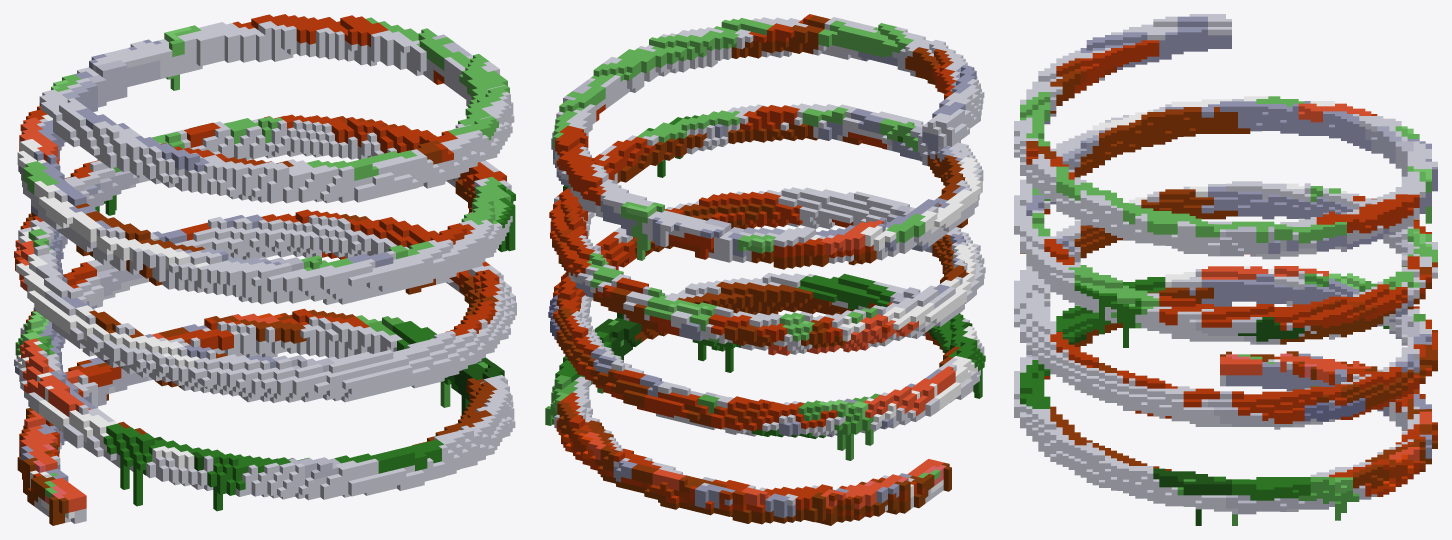
The model's file is spring_spring.FBX.
3 renders of one model, left to right at view 1: azimuth 30°, elevation 25°; view 2: azimuth 150°, elevation 25°; view 3: azimuth 270°, elevation 25°, orthographic. The views are drawn at different scales.
Parts seen in each view (by area): view 1: default028; view 2: default028; view 3: default028.
Part boxes in pixels (x1,y1,x2,y2): default028: (14,14,516,525); default028: (545,14,985,525); default028: (1014,14,1437,525).
Bounding box in the file's own units: 1224 × 1154 × 1224.
